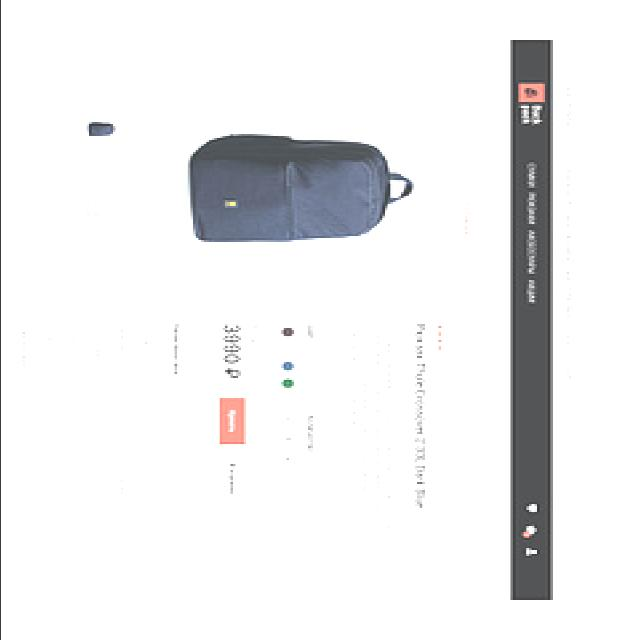backpack: (191, 133, 417, 243)
